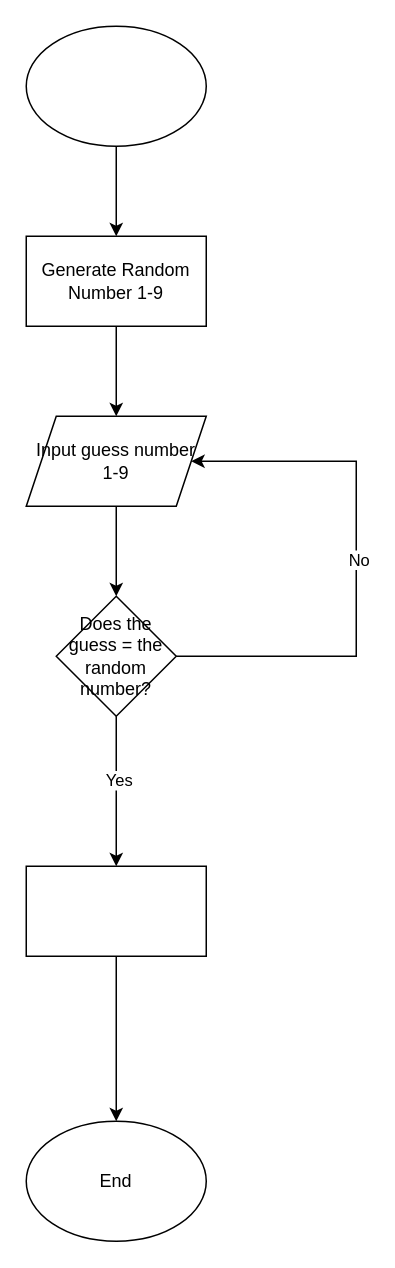
Image size: 395x1268. Some labels were removed from this diagram. Here are the shapes that lost their labels. From the top down, the centre of each, then its label:
pixel 115 85: Start
pixel 115 910: You Win
